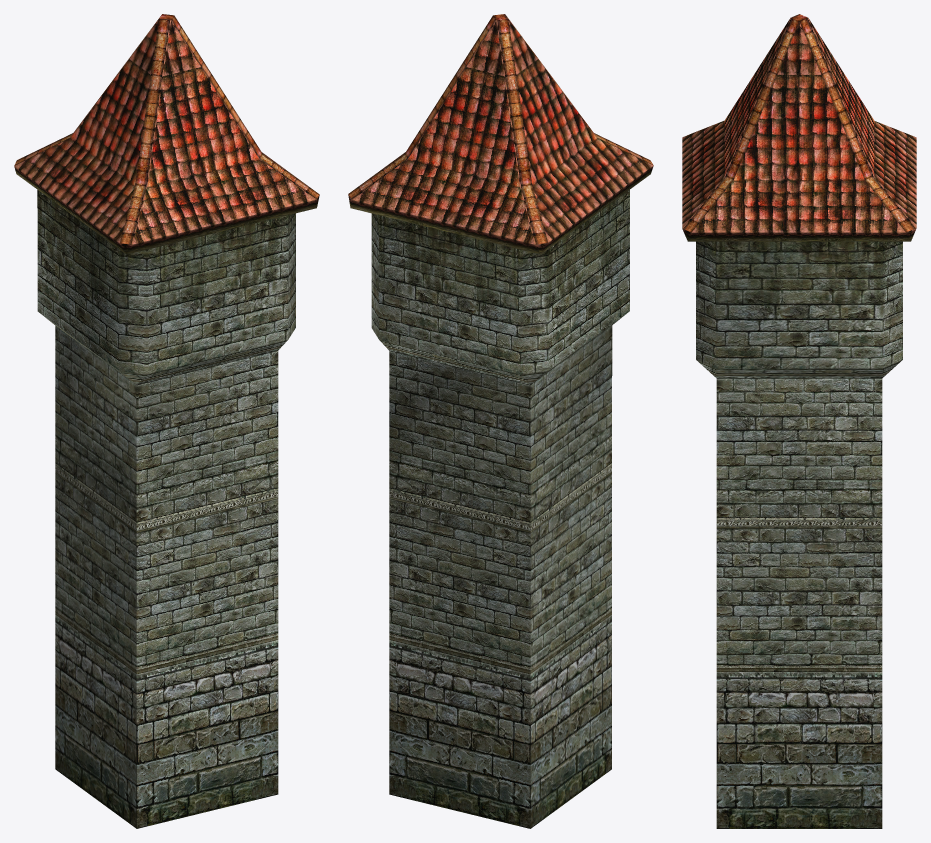
3 renders of one model, left to right at view 1: azimuth 30°, elevation 25°; view 2: azimuth 150°, elevation 25°; view 3: azimuth 270°, elevation 25°, orthographic.
Parts seen in each view (by area): view 1: cc10-col; view 2: cc10-col; view 3: cc10-col.
Part boxes in pixels (bbox=[...]): cc10-col: bbox=[14, 14, 319, 828]; cc10-col: bbox=[348, 14, 653, 828]; cc10-col: bbox=[682, 14, 916, 828].
Size of the model in its own units: 5.66 by 20.67 by 5.66.
7 materials, 7 textured.
